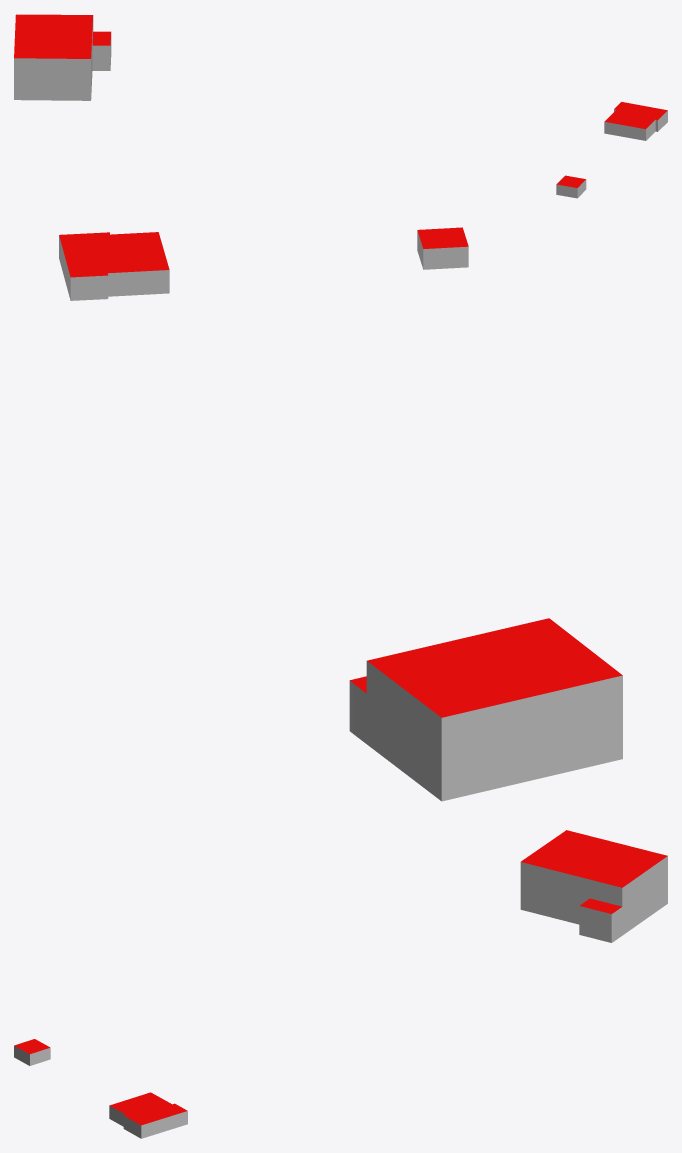
The picture shows the model from 3 angles, top to bottom: view 1: azimuth 30°, elevation 25°; view 2: azimuth 150°, elevation 25°; view 3: azimuth 270°, elevation 25°; orthographic projection. The views are drawn at different scales.
Size of the model in its own units: 143 by 12.21 by 151.
